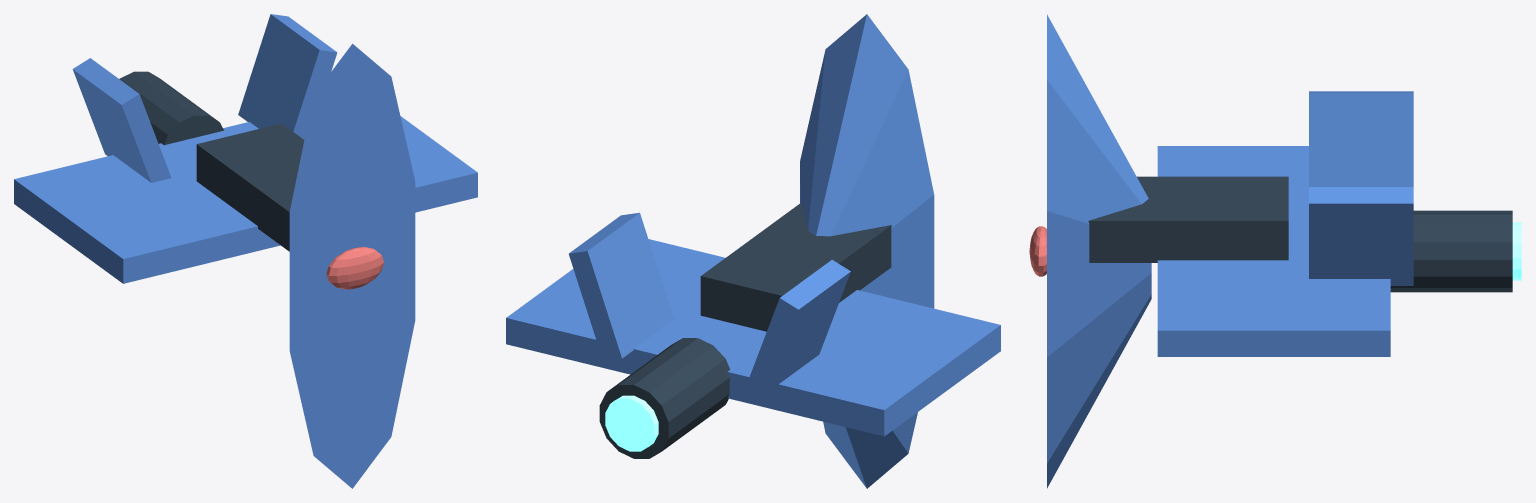
File: TempestHunter.glb
The picture shows the model from 3 angles, left to right: view 1: azimuth 30°, elevation 25°; view 2: azimuth 150°, elevation 25°; view 3: azimuth 270°, elevation 25°; orthographic projection. The views are drawn at different scales.
Parts seen in each view (by area): view 1: NeptuneBlue, NeptuneBlue.001, Dark.030, NeptuneBlue.003, NeptuneBlue.002, Dark.031, Coral.001; view 2: NeptuneBlue.001, NeptuneBlue, Dark.030, NeptuneBlue.003, Dark.031, NeptuneBlue.002, Glow.004; view 3: NeptuneBlue.001, NeptuneBlue, Dark.030, NeptuneBlue.002, NeptuneBlue.003, Dark.031, Coral.001, Glow.004.
Boxes of the visible parts, <box> form: NeptuneBlue: <box>289,43,415,488</box>; NeptuneBlue.001: <box>14,116,477,283</box>; Dark.030: <box>196,123,304,251</box>; NeptuneBlue.003: <box>238,14,337,139</box>; NeptuneBlue.002: <box>72,58,171,182</box>; Dark.031: <box>119,71,223,145</box>; Coral.001: <box>326,247,383,289</box>; NeptuneBlue.001: <box>506,239,1000,436</box>; NeptuneBlue: <box>800,14,934,488</box>; Dark.030: <box>700,203,891,331</box>; NeptuneBlue.003: <box>569,212,673,361</box>; Dark.031: <box>599,338,730,458</box>; NeptuneBlue.002: <box>745,260,850,400</box>; Glow.004: <box>605,395,658,451</box>; NeptuneBlue.001: <box>1157,146,1390,356</box>; NeptuneBlue: <box>1047,14,1151,488</box>; Dark.030: <box>1088,176,1288,262</box>; NeptuneBlue.002: <box>1309,91,1413,186</box>; NeptuneBlue.003: <box>1309,187,1413,285</box>; Dark.031: <box>1390,210,1512,292</box>; Coral.001: <box>1029,226,1046,276</box>; Glow.004: <box>1512,222,1521,280</box>.
Size of the model in its own units: 1.5 by 1.8 by 1.69.
